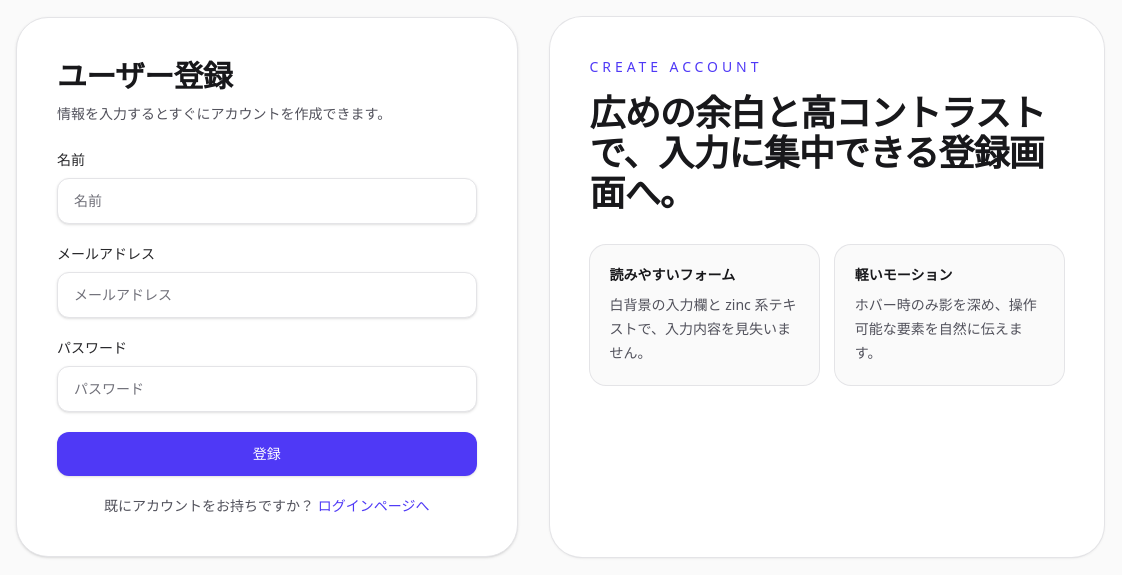
Test: RegisterPage › UI: 送信中はボタンがdisabledになり、テキストが変わる
Type "テスト ユーザー" into the field with placeholder "名前" at x=267, y=201, box [57,178,477,224]
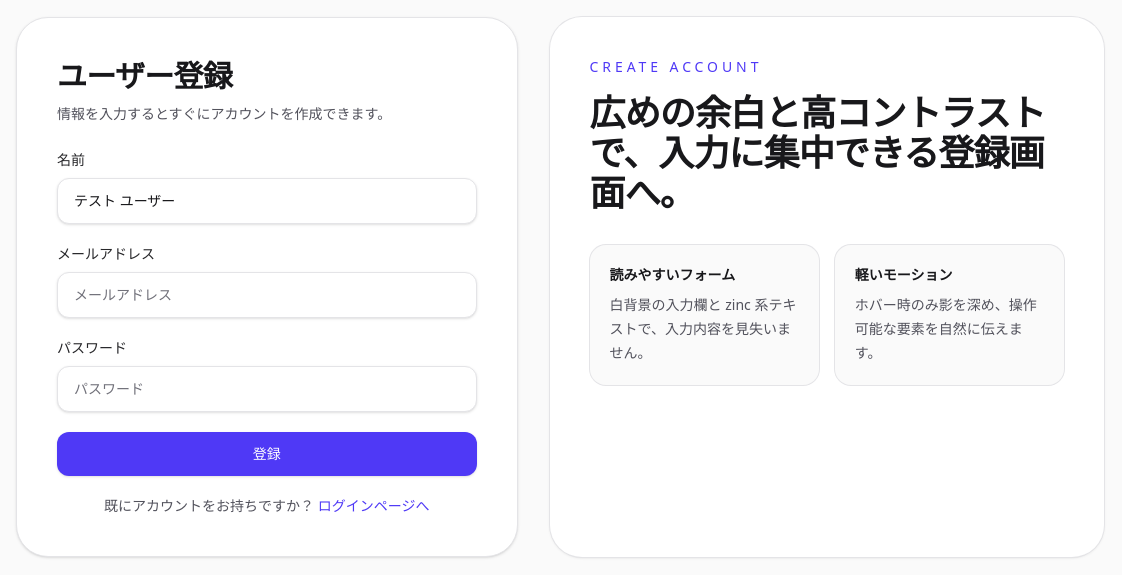
Type "test@example.com" into the field with placeholder "メールアドレス" at x=267, y=295, box [57,272,477,318]
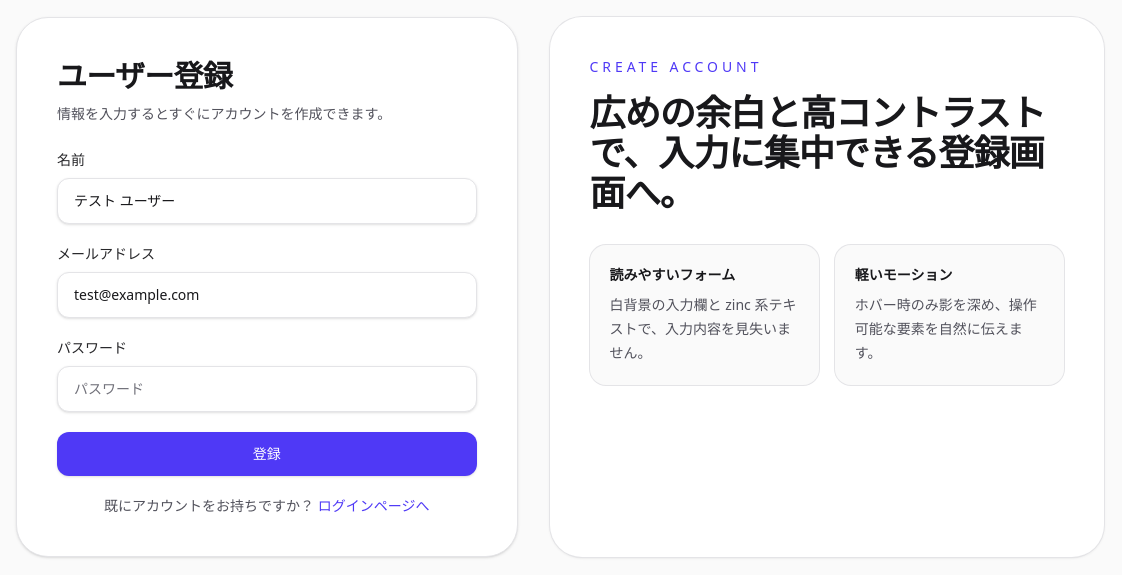
Type "password123" into the password field with placeholder "パスワード" at x=267, y=389, box [57,366,477,412]
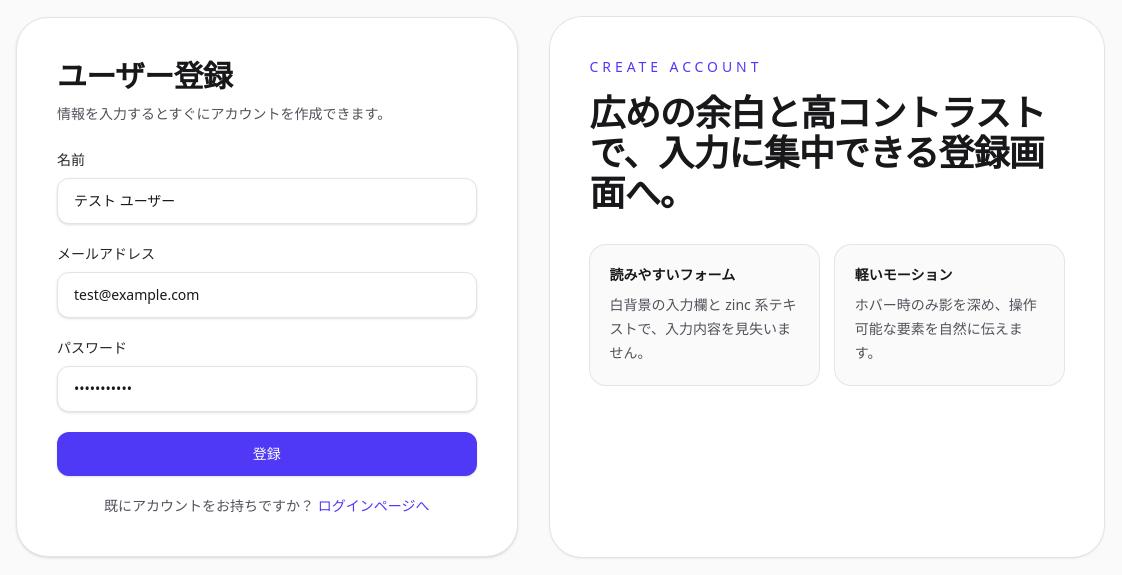
Click the button "登録" at x=267, y=454, box [57,432,477,476]
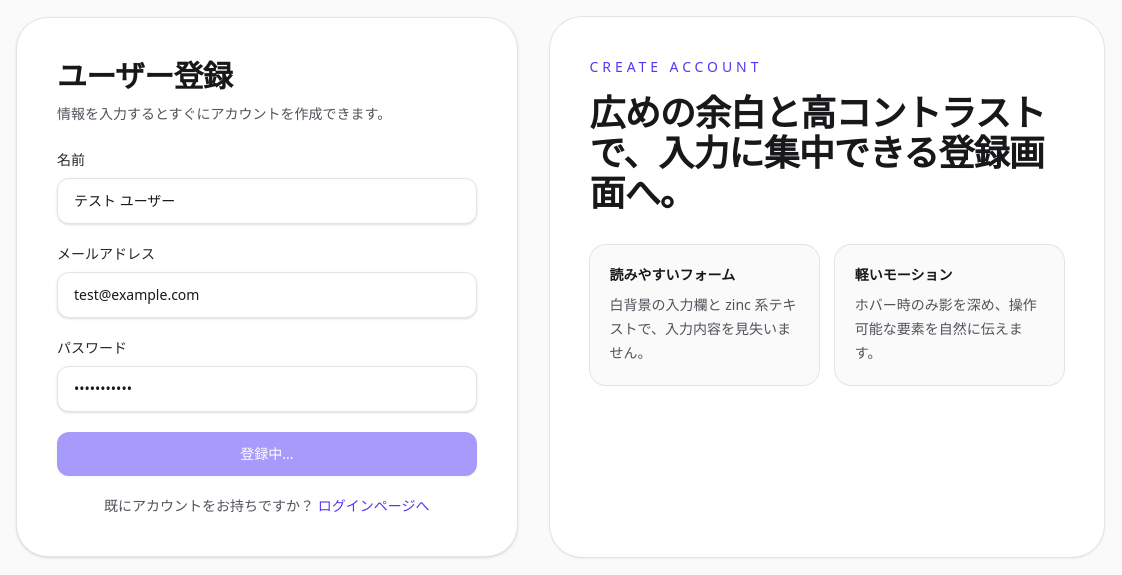
Now the button "登録中..." is disabled, box [57,432,477,476]
Now the button "登録中..." is shown, box [57,432,477,476]
